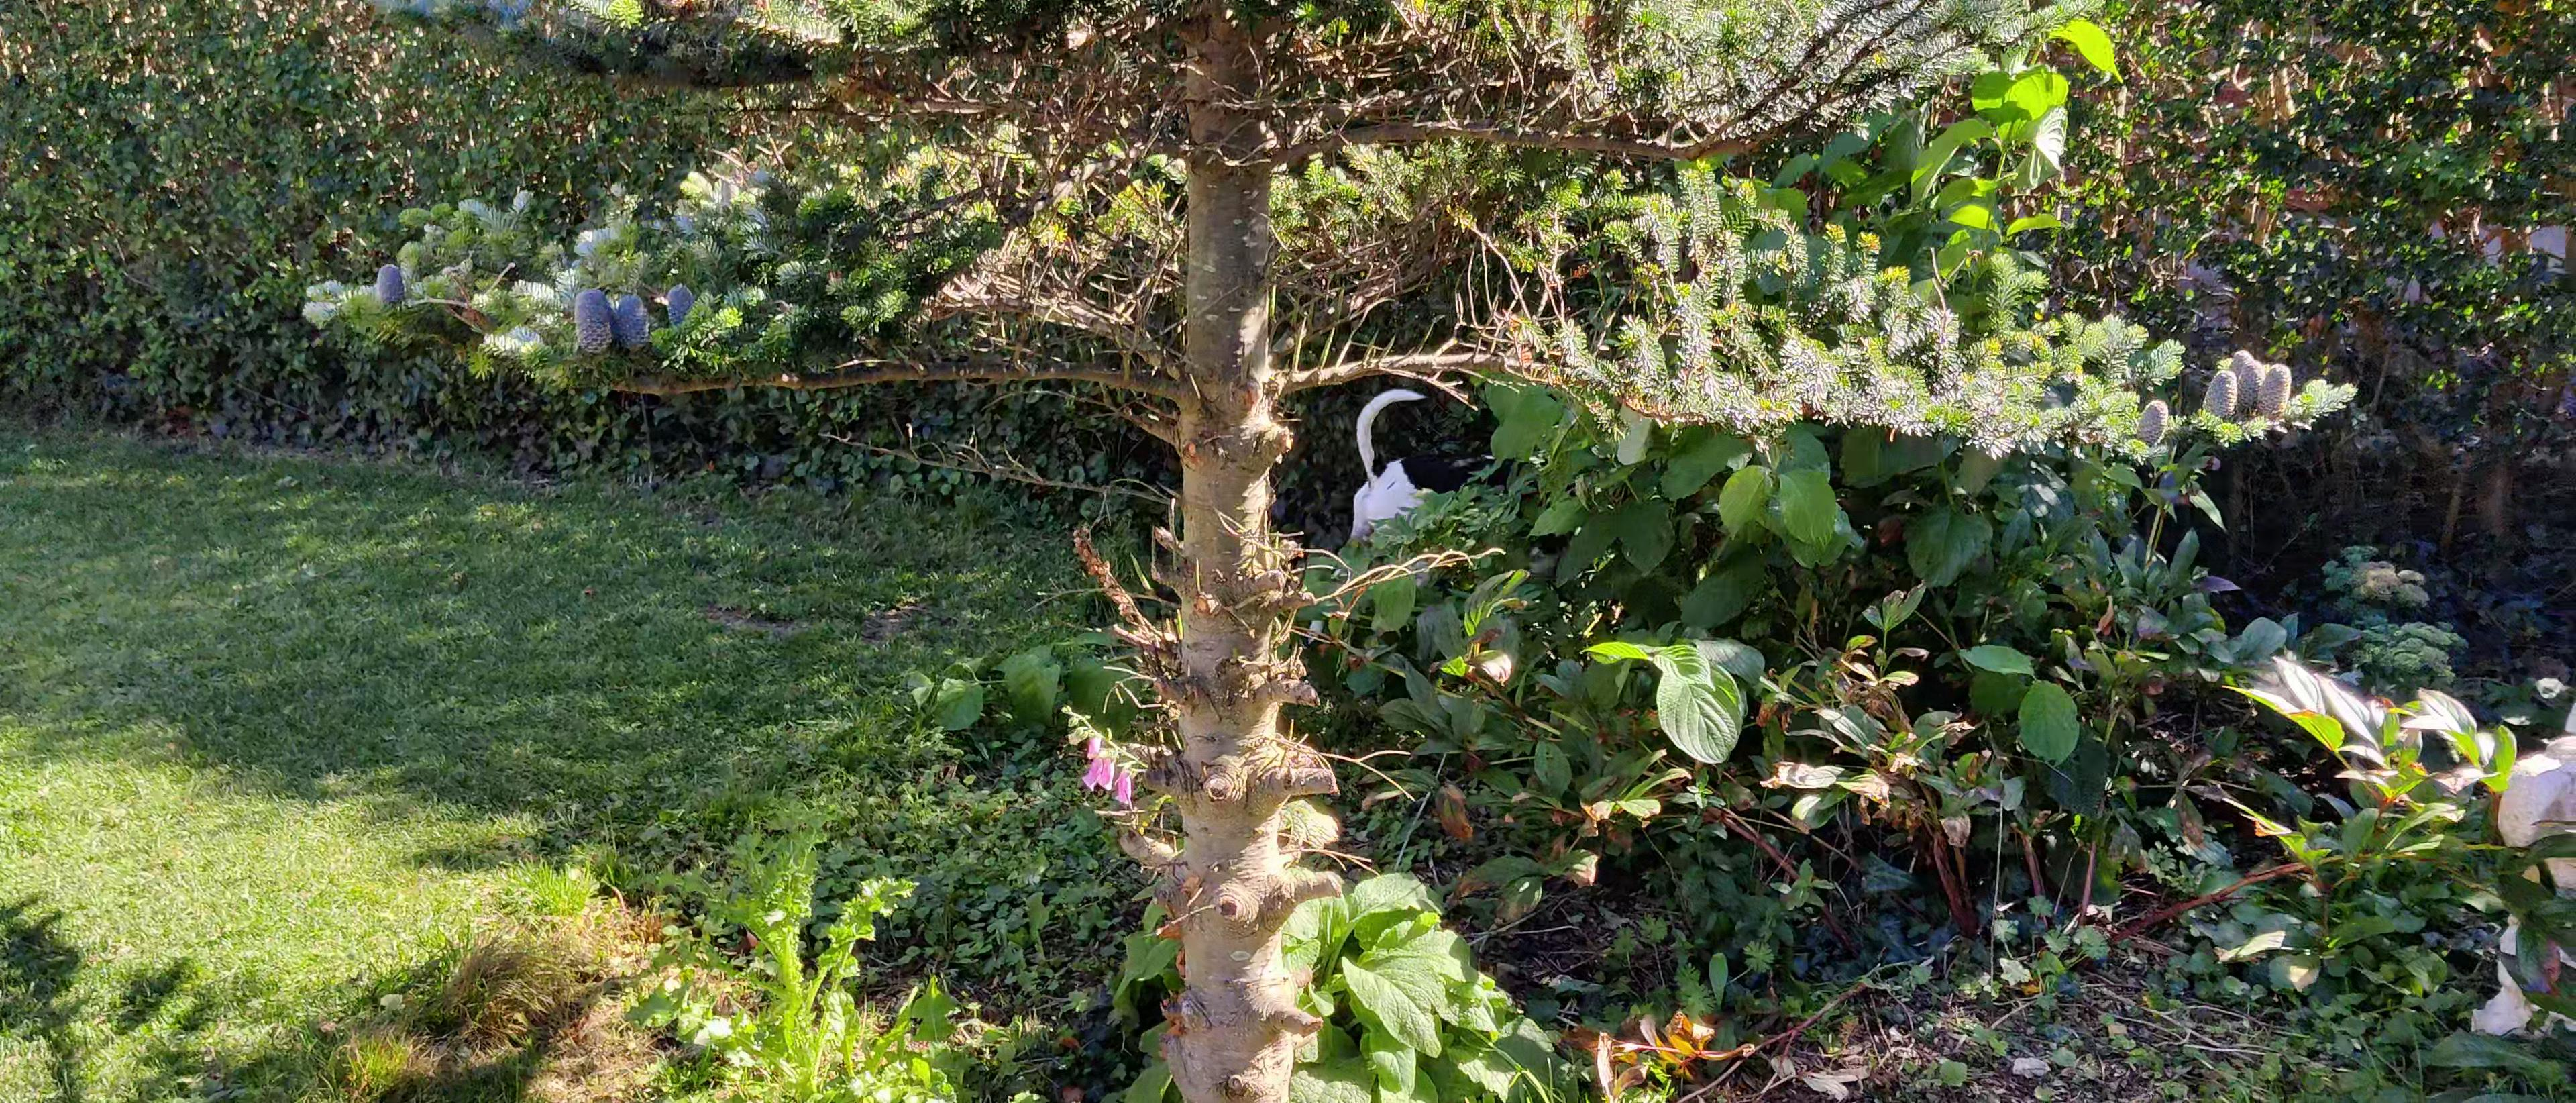Dog: (1342, 388, 1516, 542)
